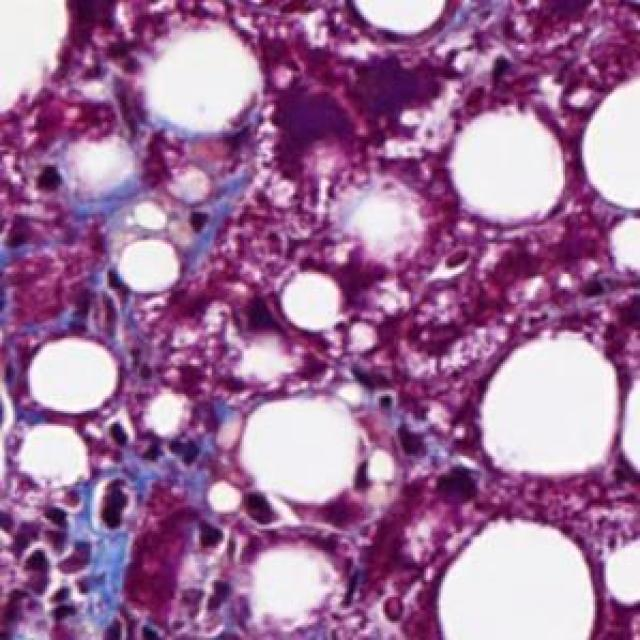inflammation: (0, 501, 103, 640), (90, 417, 210, 531), (385, 409, 488, 509)
